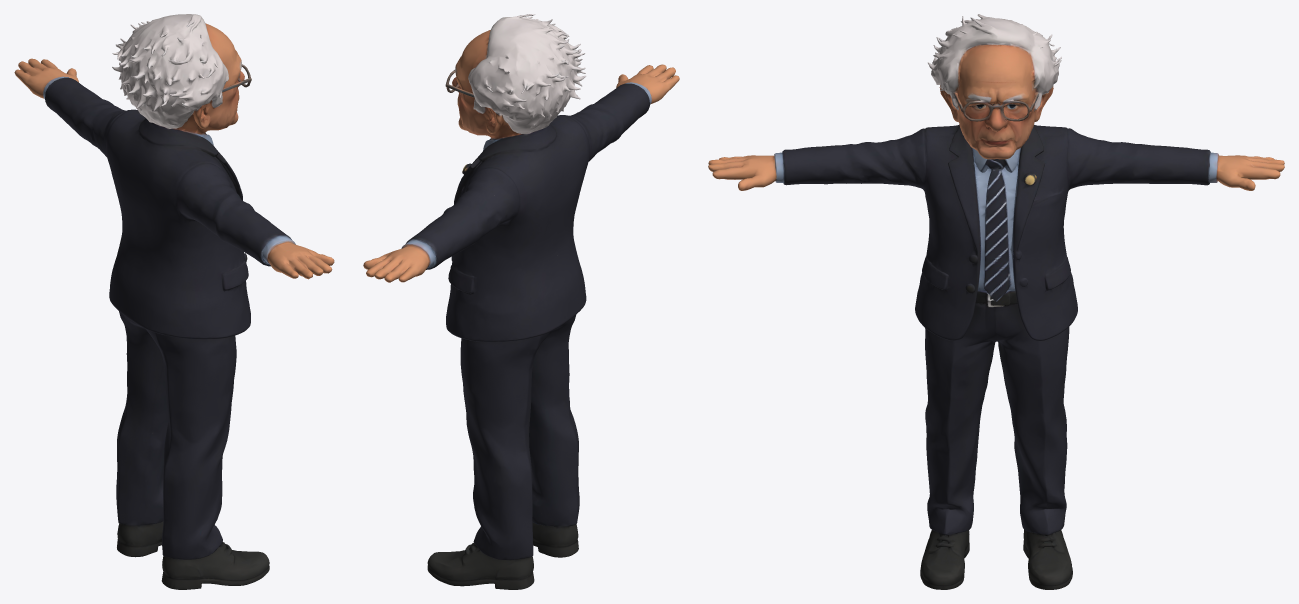
File: bernie-sanders.glb
3 renders of one model, left to right at view 1: azimuth 30°, elevation 25°; view 2: azimuth 150°, elevation 25°; view 3: azimuth 270°, elevation 25°, orthographic.
Visible parts, largest first — view 1: tripo_node_233169d4-1dd9-407a-9ed3-a272081c97c9; view 2: tripo_node_233169d4-1dd9-407a-9ed3-a272081c97c9; view 3: tripo_node_233169d4-1dd9-407a-9ed3-a272081c97c9.
Part boxes in pixels (left/top/right/bottom): tripo_node_233169d4-1dd9-407a-9ed3-a272081c97c9: left=14, top=14, right=334, bottom=589; tripo_node_233169d4-1dd9-407a-9ed3-a272081c97c9: left=363, top=14, right=679, bottom=589; tripo_node_233169d4-1dd9-407a-9ed3-a272081c97c9: left=708, top=14, right=1284, bottom=589.
Size of the model in its own units: 0.2325 by 1 by 0.9591.
Materials: 1 (1 with a texture image).
